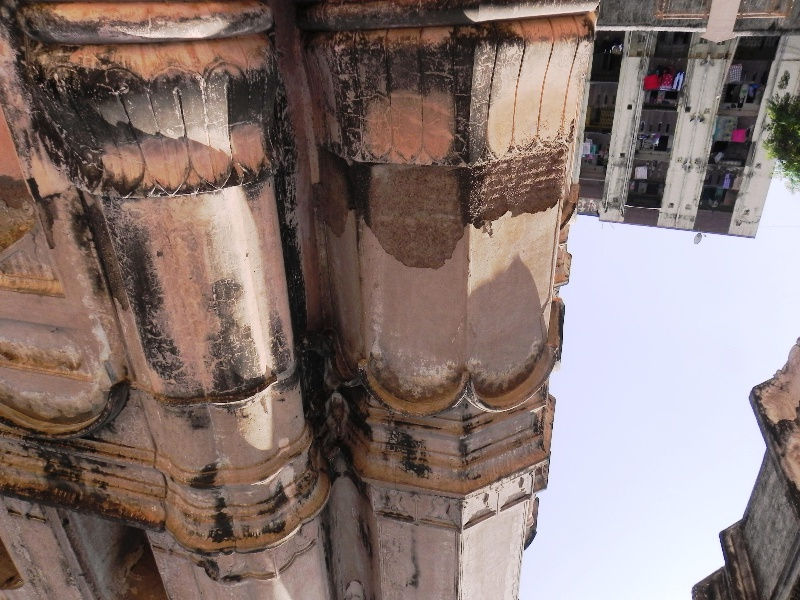Spalling: (307, 150, 570, 271)
